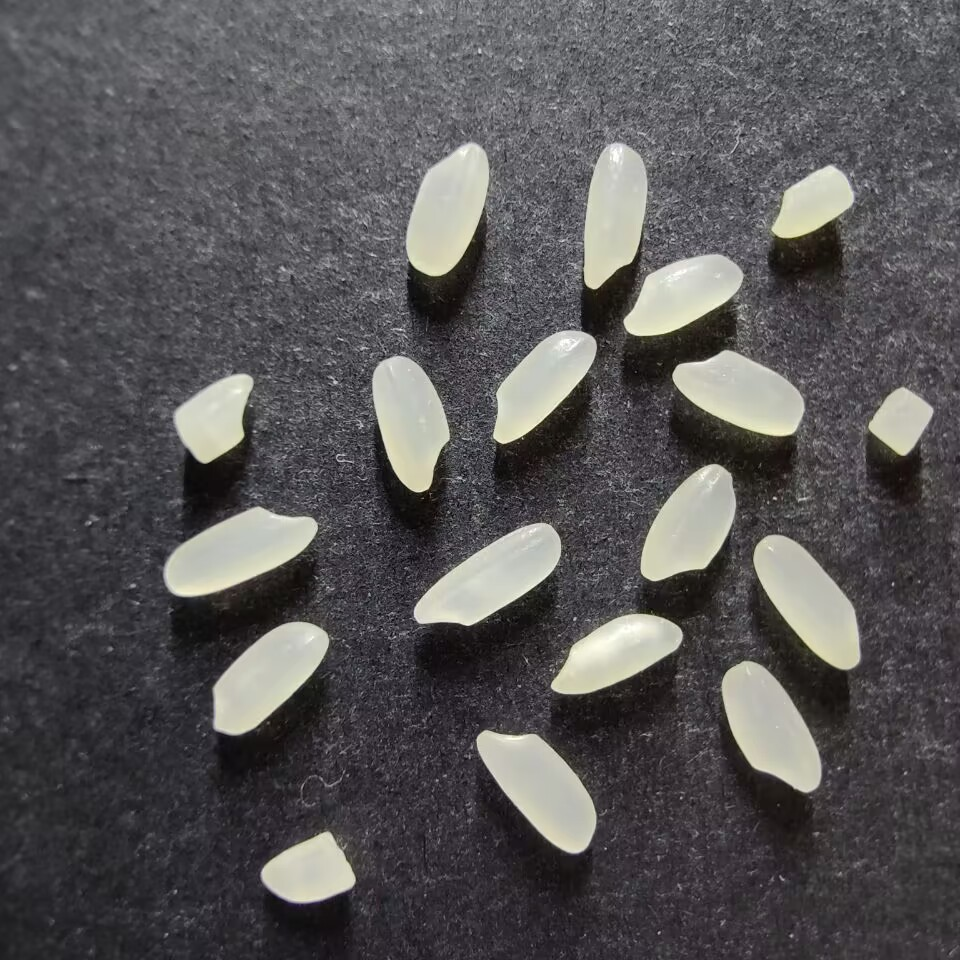broken: (173, 373, 254, 464), (260, 830, 356, 904), (770, 164, 855, 239), (867, 386, 934, 455)
rice: (412, 522, 562, 626), (474, 730, 597, 854), (752, 534, 860, 670), (163, 505, 318, 597), (720, 659, 822, 794), (211, 621, 330, 736), (492, 329, 597, 444), (671, 349, 805, 436), (639, 463, 736, 581), (404, 142, 489, 276), (549, 613, 683, 696), (371, 355, 450, 493), (623, 252, 743, 336), (582, 142, 648, 289)
